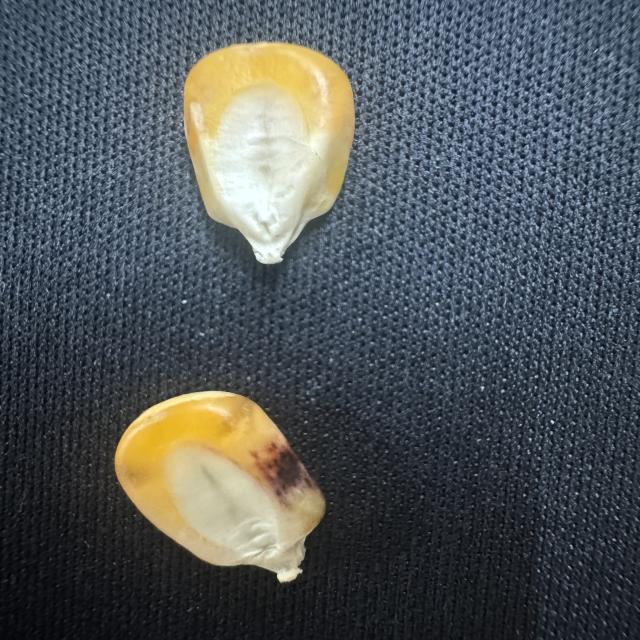Bad-Seed: (110, 386, 333, 588)
Good-Seed: (178, 37, 361, 273)
